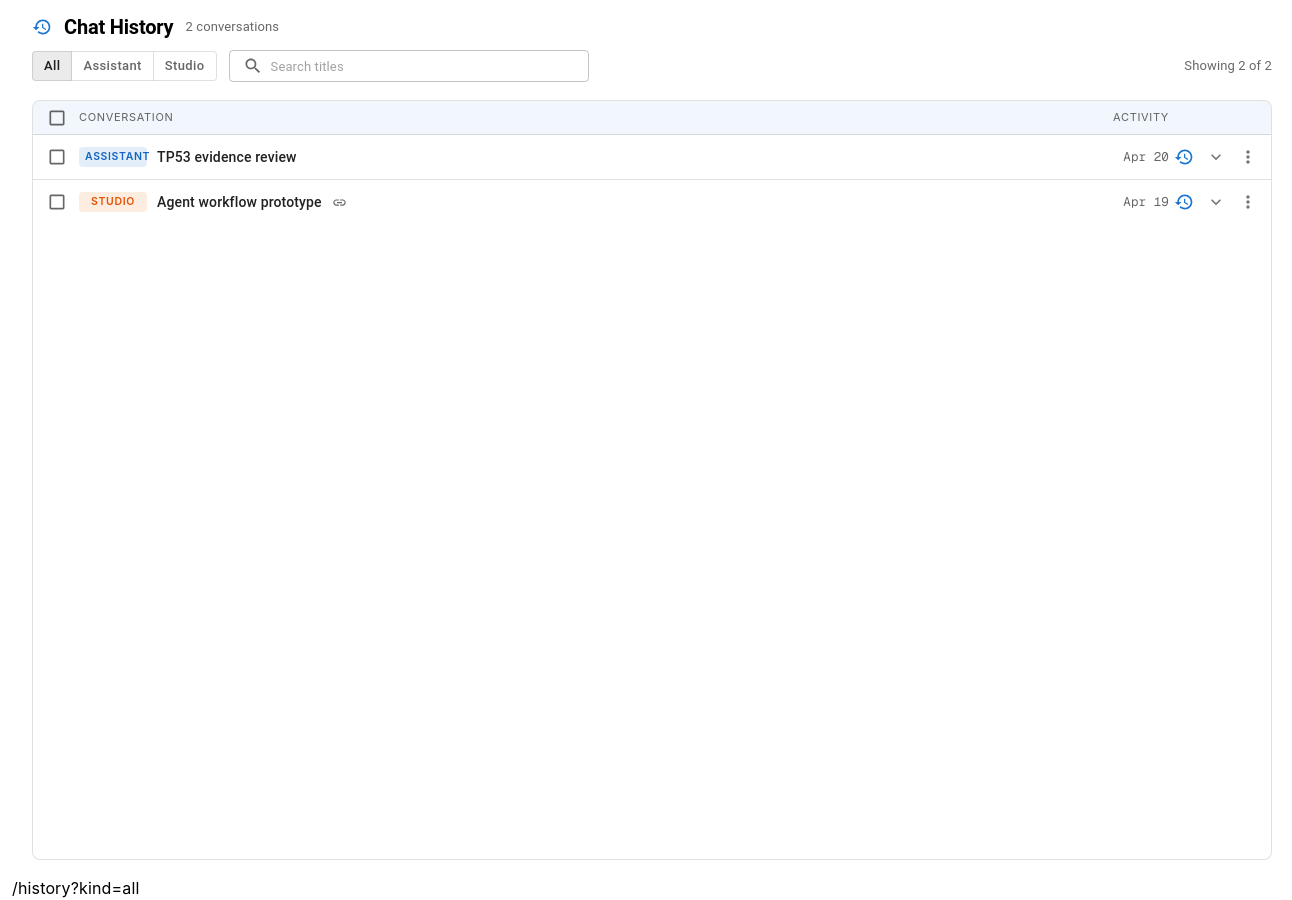
it: HistoryPage › passes the selected kind into title searches and clears the search from the field
The width and height of the screenshot is (1292, 900).
Click the button "Studio".
click(185, 66)  # box top-left (153, 51), bottom-right (216, 81)
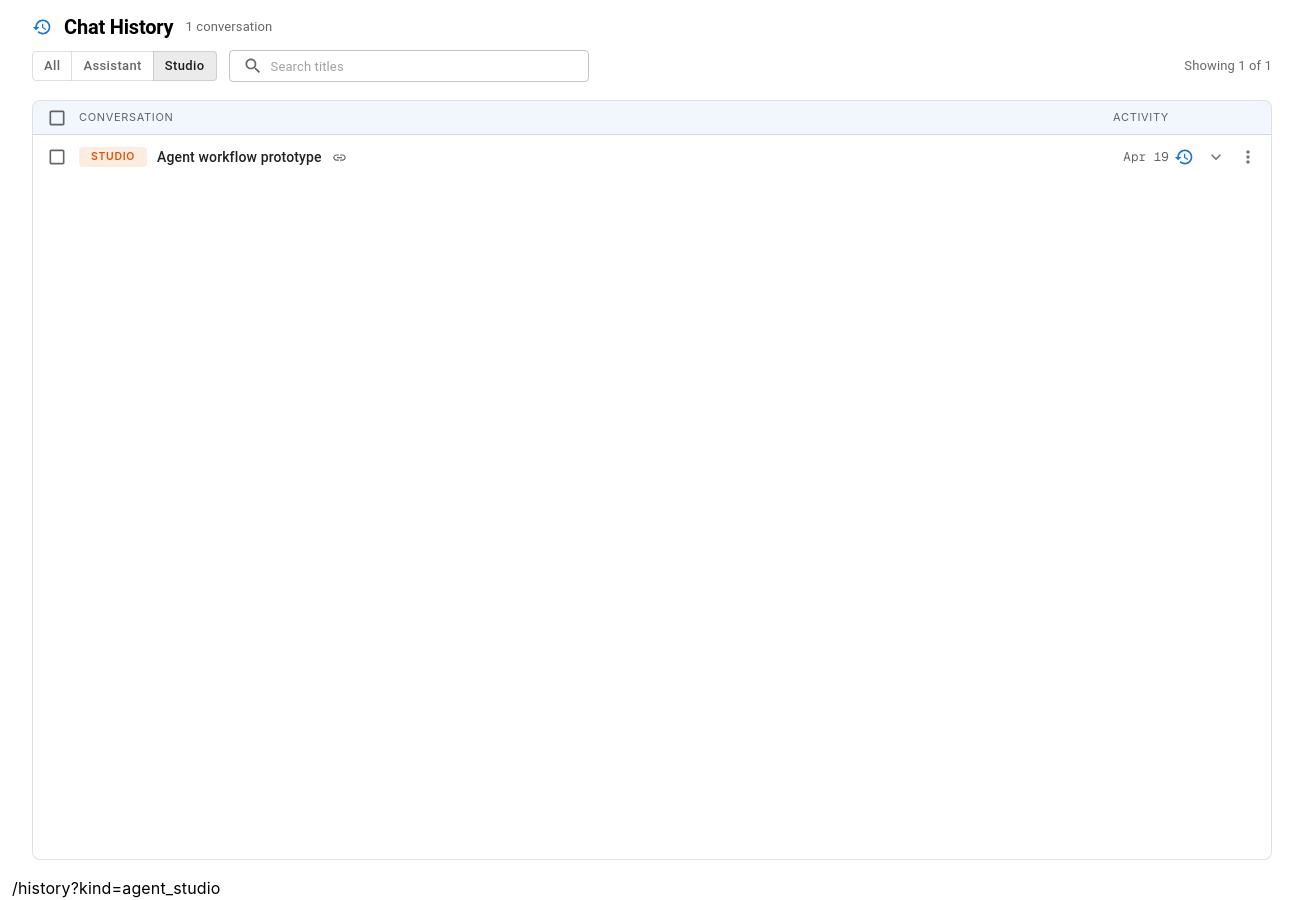
Type "  workflow  " into the field labelled "Search titles".
click(430, 66); type("  workflow  ")  # box top-left (270, 48), bottom-right (588, 84)
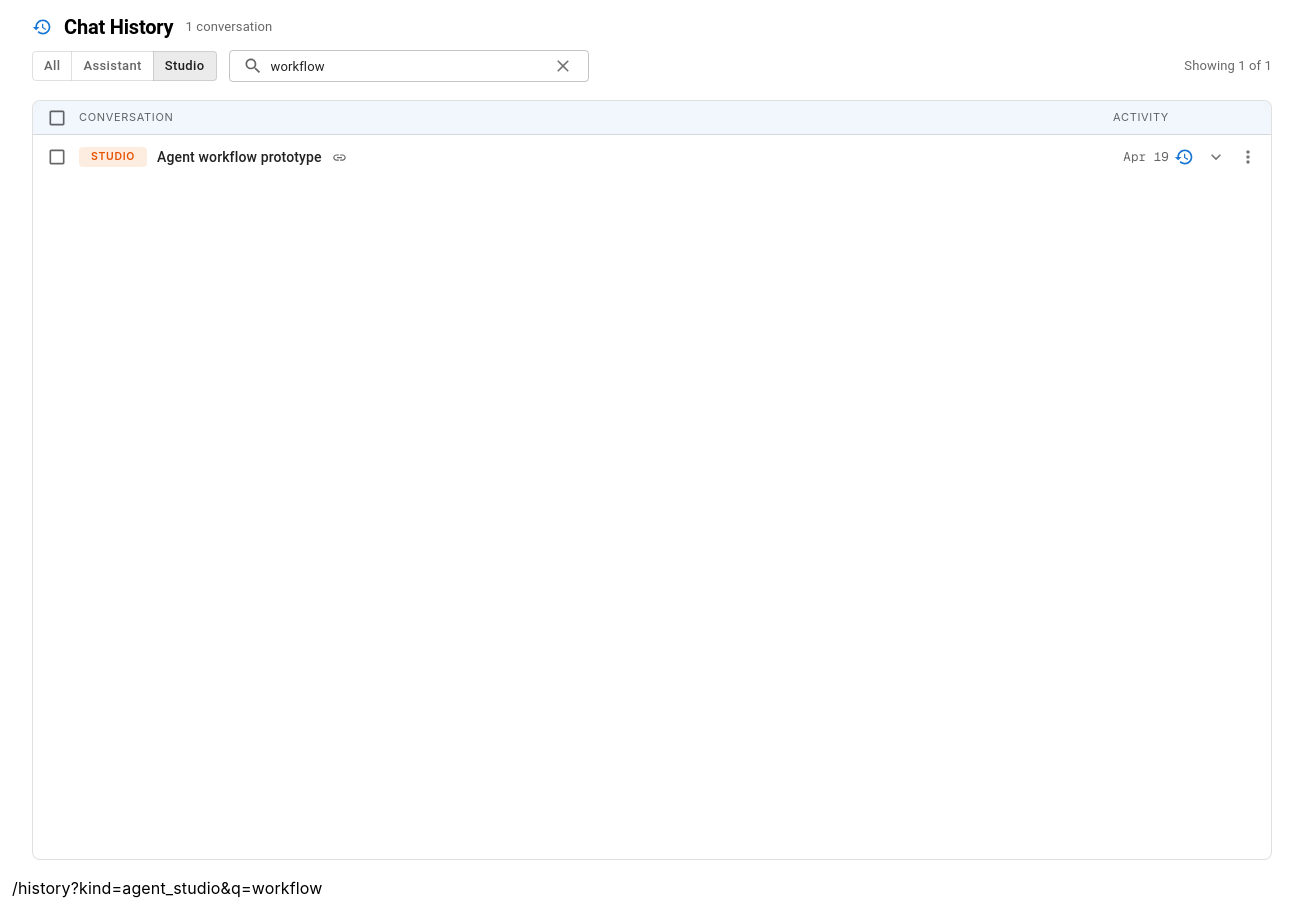
Check: the button "Studio Agent workflow prototype Apr 19" is shown, box top-left (79, 147), bottom-right (1169, 170)
Check: the text with test id "current-location" reads "/history?kind=agent_studio&q=workflow", box top-left (12, 878), bottom-right (323, 898)
Click the button named "Clear search text".
click(562, 66)  # box top-left (548, 51), bottom-right (578, 81)
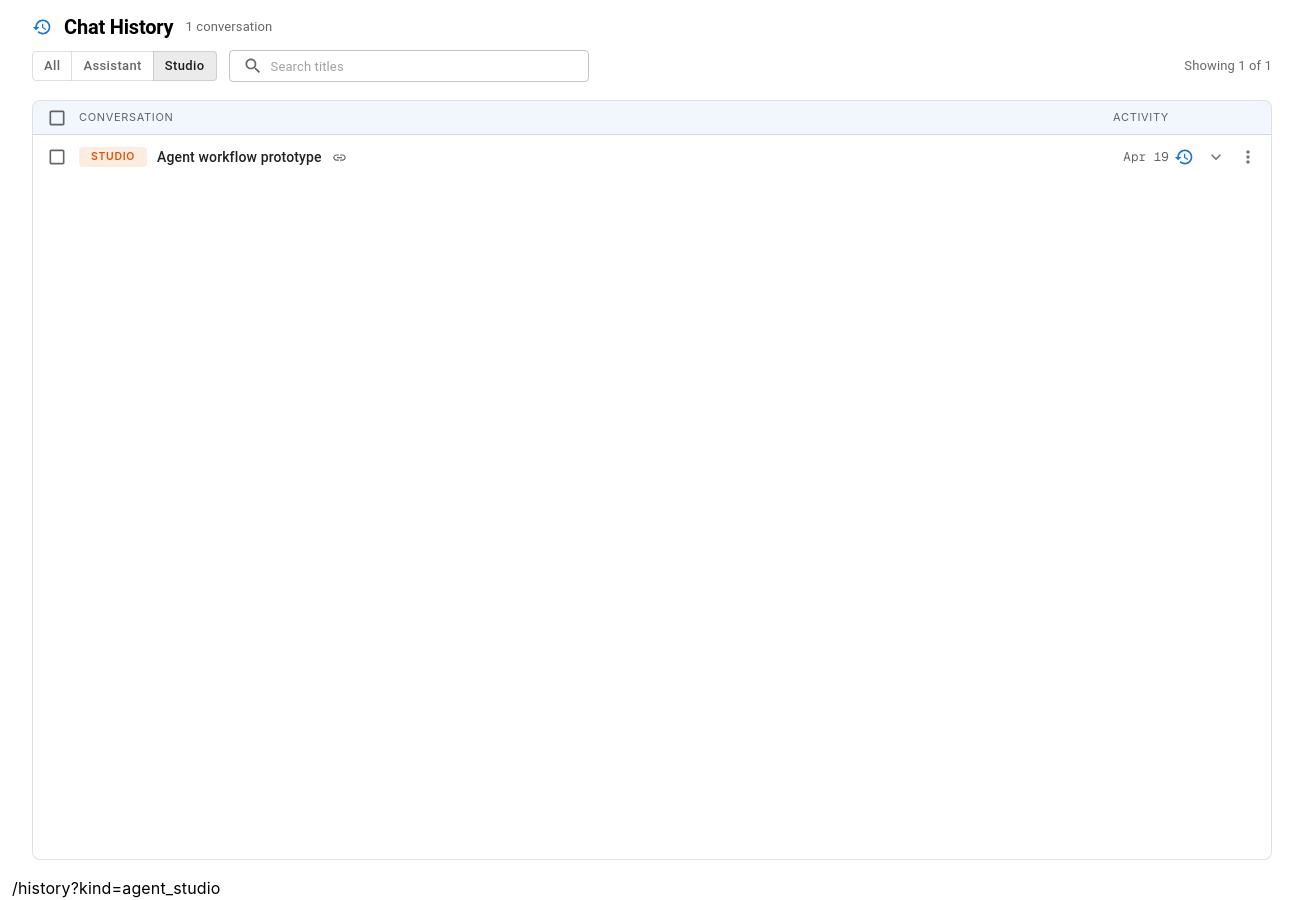
Check: the text with test id "current-location" reads "/history?kind=agent_studio", box top-left (12, 878), bottom-right (221, 898)
Check: the field labelled "Search titles" is empty, box top-left (270, 48), bottom-right (588, 84)
